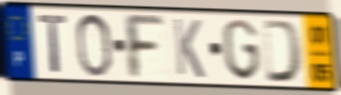D: (261, 18, 305, 85)
F: (120, 11, 166, 82)
G: (221, 17, 263, 83)
K: (171, 16, 206, 81)
O: (74, 12, 114, 79)
T: (37, 13, 70, 75)
